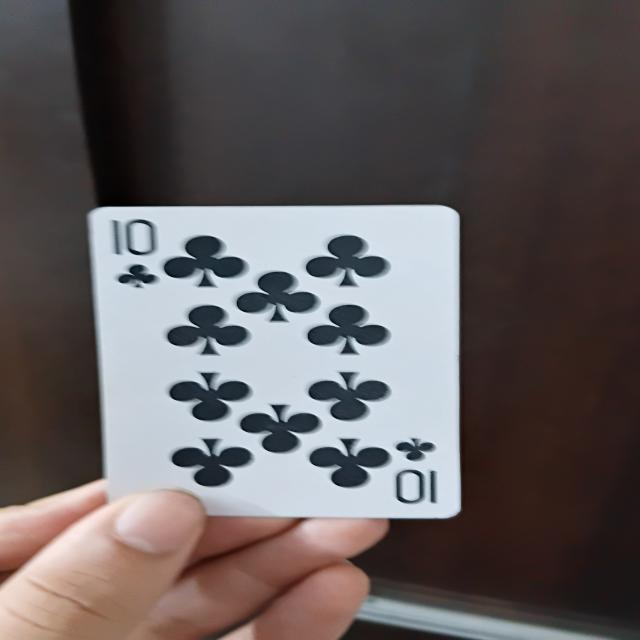10C: (81, 201, 466, 522)
